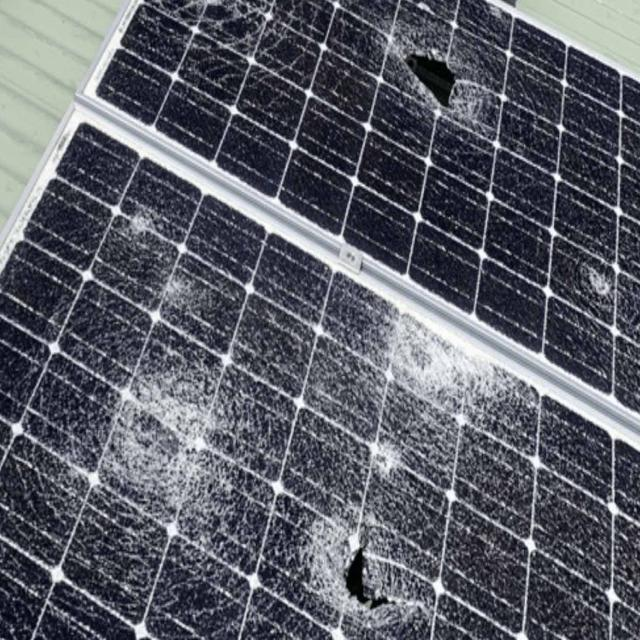Anomaly Solar Panel: (0, 104, 640, 639), (76, 0, 640, 426)
Structural Damage: (65, 343, 272, 542), (368, 301, 551, 452), (376, 19, 510, 160), (299, 498, 432, 636), (116, 207, 208, 315), (157, 0, 326, 46), (342, 420, 420, 487), (566, 244, 632, 321)
